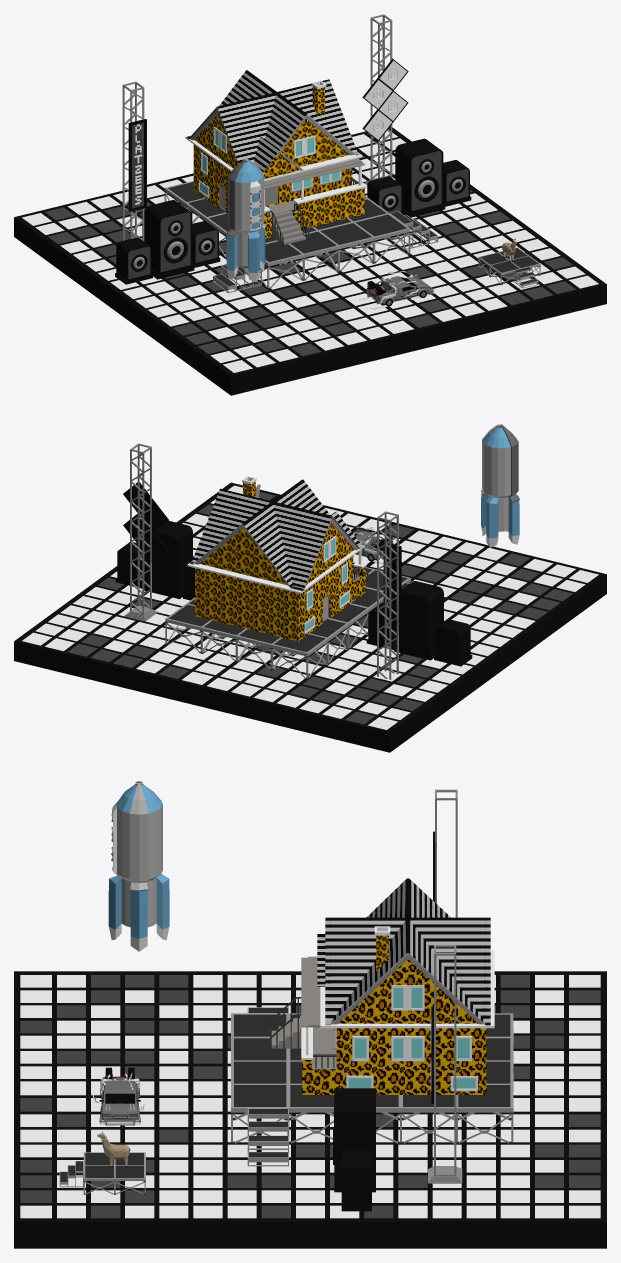
3 renders of one model, top to bottom at view 1: azimuth 30°, elevation 25°; view 2: azimuth 150°, elevation 25°; view 3: azimuth 270°, elevation 25°, orthographic. The views are drawn at different scales.
Parts seen in each view (by area): view 1: Cube.008, Cube.637, OBJRANDOM_ROCKETSHIP, VEHICLES_DELOREAN; view 2: Cube.008, Cube.637, OBJRANDOM_ROCKETSHIP, VEHICLES_DELOREAN; view 3: Cube.008, Cube.637, OBJRANDOM_ROCKETSHIP, VEHICLES_DELOREAN.
Boxes of the visible parts, <box> form: Cube.008: <box>14,14,606,395</box>; Cube.637: <box>185,70,367,245</box>; OBJRANDOM_ROCKETSHIP: <box>226,159,265,282</box>; VEHICLES_DELOREAN: <box>358,271,434,309</box>; Cube.008: <box>14,443,606,752</box>; Cube.637: <box>187,476,368,641</box>; OBJRANDOM_ROCKETSHIP: <box>481,424,519,547</box>; VEHICLES_DELOREAN: <box>353,526,393,563</box>; Cube.008: <box>14,789,606,1248</box>; Cube.637: <box>269,878,494,1094</box>; OBJRANDOM_ROCKETSHIP: <box>108,781,169,951</box>; VEHICLES_DELOREAN: <box>92,1067,145,1125</box>.
Size of the model in its own units: 4000 by 1983 by 4000.
Materials: 41 (2 with a texture image).
